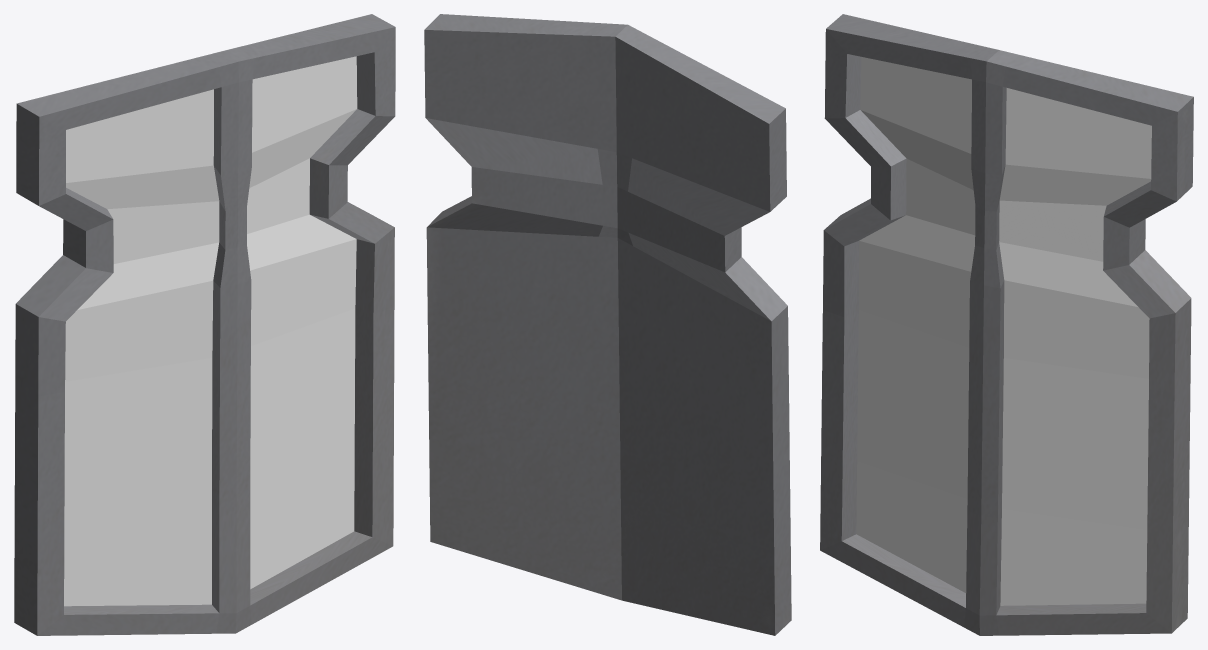
Rendered from Shield.fbx.
3 renders of one model, left to right at view 1: azimuth 30°, elevation 25°; view 2: azimuth 150°, elevation 25°; view 3: azimuth 330°, elevation 25°, orthographic.
Visible parts, largest first — view 1: Shield; view 2: Shield; view 3: Shield.
Part boxes in pixels (x1,y1,x2,y2): Shield: (14, 14, 395, 635); Shield: (424, 14, 791, 635); Shield: (820, 14, 1193, 635).
Size of the model in its own units: 97.63 by 148 by 19.85.
